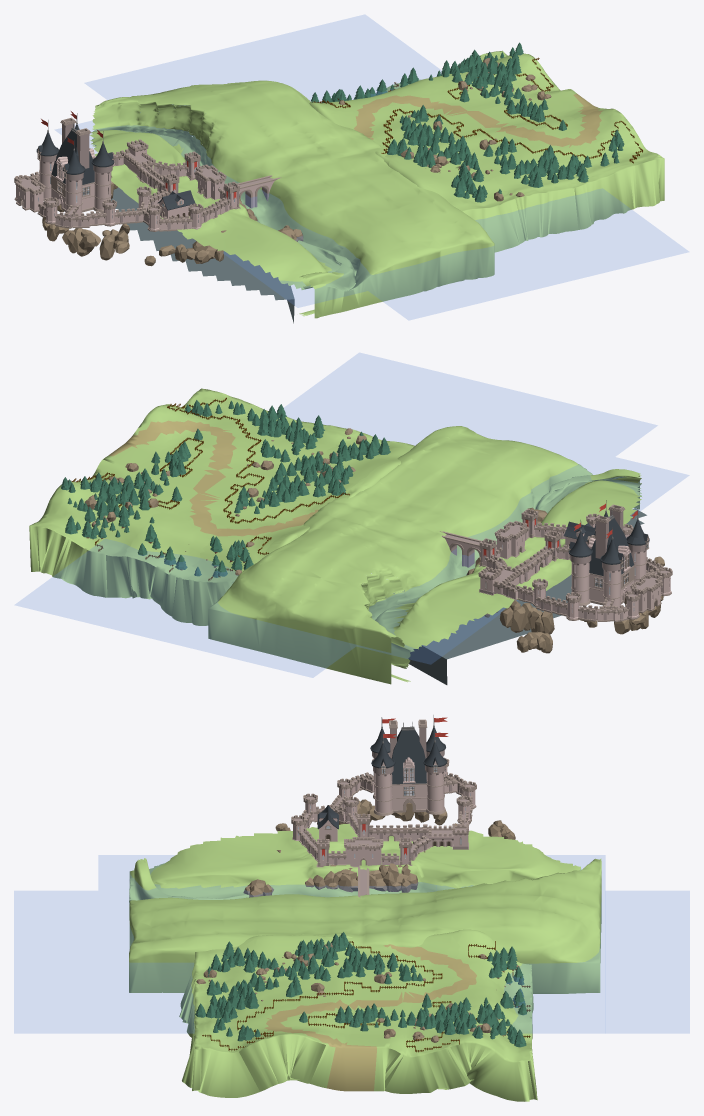
File: level.glb
The picture shows the model from 3 angles, top to bottom: view 1: azimuth 30°, elevation 25°; view 2: azimuth 150°, elevation 25°; view 3: azimuth 270°, elevation 25°; orthographic projection. The views are drawn at different scales.
Parts seen in each view (by area): view 1: BACKDROP, CHUNK_-008_-004, CHUNK_-007_-004, CHUNK_-014_-002, CHUNK_-009_-004, CHUNK_-015_-001, CHUNK_-015_-002, CHUNK_-007_-001, CHUNK_-009_-003, CHUNK_-007_-003, CHUNK_-006_-004, CHUNK_-008_-003 (+19 smaller); view 2: BACKDROP, CHUNK_-007_+000, CHUNK_-008_+000, CHUNK_-015_-001, CHUNK_-014_-001, CHUNK_-009_+000, CHUNK_-009_-002, CHUNK_-008_-002, CHUNK_-007_-002, CHUNK_-014_+000, CHUNK_-008_-003, CHUNK_-008_-001 (+22 smaller); view 3: BACKDROP, CHUNK_-014_-001, CHUNK_-006_-002, CHUNK_-006_+000, CHUNK_-006_-001, CHUNK_-006_-003, CHUNK_-006_-004, CHUNK_-012_-002, CHUNK_-008_-002, CHUNK_-009_+000, CHUNK_-009_-003, CHUNK_-009_-001 (+20 smaller).
Boxes of the visible parts, x1,y1,x2,y2 form: BACKDROP: [55, 15, 688, 323]; CHUNK_-008_-004: [494, 150, 578, 240]; CHUNK_-007_-004: [553, 139, 637, 229]; CHUNK_-014_-002: [75, 131, 151, 260]; CHUNK_-009_-004: [436, 168, 524, 252]; CHUNK_-015_-001: [14, 119, 69, 241]; CHUNK_-015_-002: [44, 138, 95, 256]; CHUNK_-007_-001: [452, 62, 540, 110]; CHUNK_-009_-003: [398, 140, 492, 189]; CHUNK_-007_-003: [521, 120, 607, 162]; CHUNK_-006_-004: [608, 132, 664, 207]; CHUNK_-008_-003: [457, 135, 550, 177]; BACKDROP: [15, 353, 688, 684]; CHUNK_-007_+000: [60, 484, 160, 597]; CHUNK_-008_+000: [118, 510, 221, 616]; CHUNK_-015_-001: [600, 514, 662, 634]; CHUNK_-014_-001: [534, 504, 634, 633]; CHUNK_-009_+000: [185, 528, 283, 622]; CHUNK_-009_-002: [259, 465, 355, 512]; CHUNK_-008_-002: [193, 459, 295, 504]; CHUNK_-007_-002: [131, 439, 232, 488]; CHUNK_-014_+000: [516, 579, 594, 653]; CHUNK_-008_-003: [231, 419, 326, 472]; CHUNK_-008_-001: [156, 486, 258, 528]; BACKDROP: [14, 823, 689, 1033]; CHUNK_-014_-001: [386, 719, 460, 825]; CHUNK_-006_-002: [310, 1030, 402, 1091]; CHUNK_-006_+000: [448, 1021, 533, 1101]; CHUNK_-006_-001: [385, 1018, 469, 1093]; CHUNK_-006_-003: [239, 1026, 325, 1091]; CHUNK_-006_-004: [182, 1024, 259, 1097]; CHUNK_-012_-002: [317, 837, 391, 892]; CHUNK_-008_-002: [317, 961, 398, 1010]; CHUNK_-009_+000: [457, 939, 531, 1001]; CHUNK_-009_-003: [243, 939, 321, 979]; CHUNK_-009_-001: [387, 936, 463, 982].
Size of the model in its own units: 335 by 84.92 by 345.
59 materials, 1 textured.
